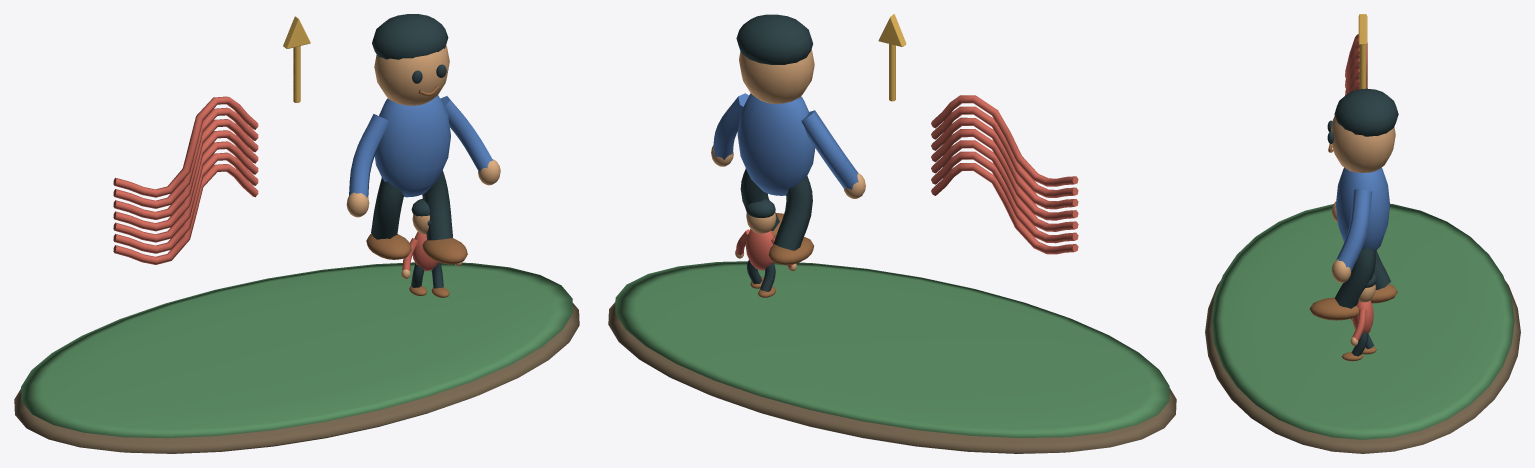
The model's file is complete-first-growing-up.glb.
3 renders of one model, left to right at view 1: azimuth 30°, elevation 25°; view 2: azimuth 150°, elevation 25°; view 3: azimuth 270°, elevation 25°, orthographic. The views are drawn at different scales.
Parts seen in each view (by area): view 1: complete-first-growing-up_surface_01, complete-first-growing-up_surface_02, complete-first-growing-up_surface_00, complete-first-growing-up_surface_06, complete-first-growing-up_surface_04, complete-first-growing-up_surface_03, complete-first-growing-up_surface_05, complete-first-growing-up_surface_07; view 2: complete-first-growing-up_surface_01, complete-first-growing-up_surface_02, complete-first-growing-up_surface_00, complete-first-growing-up_surface_06, complete-first-growing-up_surface_04, complete-first-growing-up_surface_03, complete-first-growing-up_surface_05, complete-first-growing-up_surface_07; view 3: complete-first-growing-up_surface_01, complete-first-growing-up_surface_00, complete-first-growing-up_surface_04, complete-first-growing-up_surface_06, complete-first-growing-up_surface_03, complete-first-growing-up_surface_05, complete-first-growing-up_surface_02, complete-first-growing-up_surface_07.
Boxes of the visible parts, left/top/right/bottom form: complete-first-growing-up_surface_01: left=21, top=262, right=572, bottom=438; complete-first-growing-up_surface_02: left=113, top=96, right=438, bottom=271; complete-first-growing-up_surface_00: left=14, top=303, right=579, bottom=453; complete-first-growing-up_surface_06: left=348, top=95, right=492, bottom=197; complete-first-growing-up_surface_04: left=371, top=14, right=452, bottom=288; complete-first-growing-up_surface_03: left=346, top=45, right=500, bottom=279; complete-first-growing-up_surface_05: left=366, top=85, right=467, bottom=297; complete-first-growing-up_surface_07: left=283, top=16, right=310, bottom=102; complete-first-growing-up_surface_01: left=615, top=261, right=1169, bottom=437; complete-first-growing-up_surface_02: left=736, top=95, right=1078, bottom=270; complete-first-growing-up_surface_00: left=608, top=302, right=1176, bottom=453; complete-first-growing-up_surface_06: left=713, top=93, right=858, bottom=195; complete-first-growing-up_surface_04: left=736, top=14, right=812, bottom=291; complete-first-growing-up_surface_03: left=711, top=49, right=865, bottom=271; complete-first-growing-up_surface_05: left=750, top=213, right=813, bottom=297; complete-first-growing-up_surface_07: left=878, top=14, right=906, bottom=101; complete-first-growing-up_surface_01: left=1211, top=203, right=1514, bottom=439; complete-first-growing-up_surface_00: left=1205, top=280, right=1520, bottom=453; complete-first-growing-up_surface_04: left=1327, top=88, right=1398, bottom=356; complete-first-growing-up_surface_06: left=1335, top=167, right=1389, bottom=271; complete-first-growing-up_surface_03: left=1331, top=116, right=1395, bottom=346; complete-first-growing-up_surface_05: left=1309, top=144, right=1397, bottom=361; complete-first-growing-up_surface_02: left=1345, top=34, right=1373, bottom=341; complete-first-growing-up_surface_07: left=1358, top=14, right=1367, bottom=89.
Bounding box in the file's own units: 4.56 × 2.91 × 2.5.
